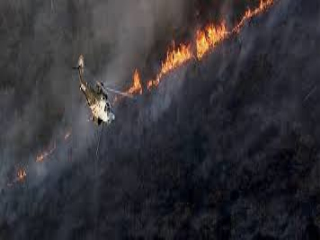fire: (137, 20, 250, 89)
smoke: (91, 6, 150, 80)
